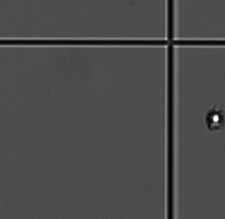Living Cell: (205, 109, 222, 128)
